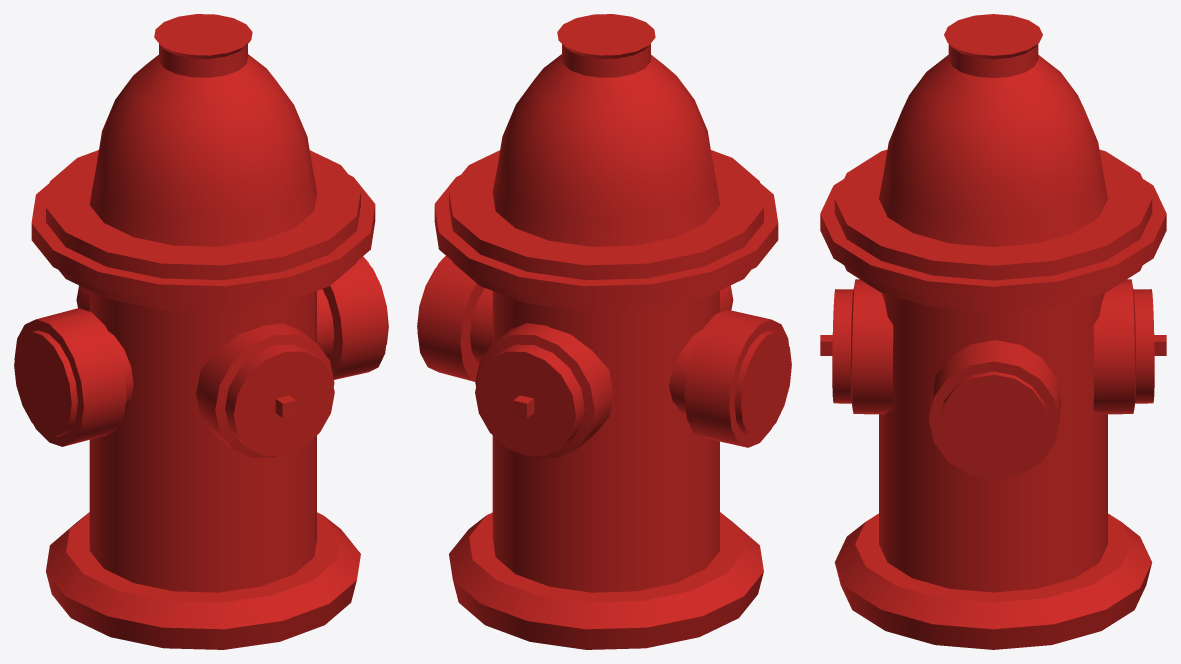
File: fireplug.fbx
3 views of the same model, side by side, from view 1: azimuth 30°, elevation 25°; view 2: azimuth 150°, elevation 25°; view 3: azimuth 270°, elevation 25° (orthographic).
Parts seen in each view (by area): view 1: Cylinder.044; view 2: Cylinder.044; view 3: Cylinder.044.
Boxes of the visible parts, x1,y1,x2,y2 form: Cylinder.044: [14, 14, 388, 649]; Cylinder.044: [417, 14, 791, 649]; Cylinder.044: [820, 14, 1166, 649].
Bounding box in the file's own units: 104 × 96.88 × 172.
